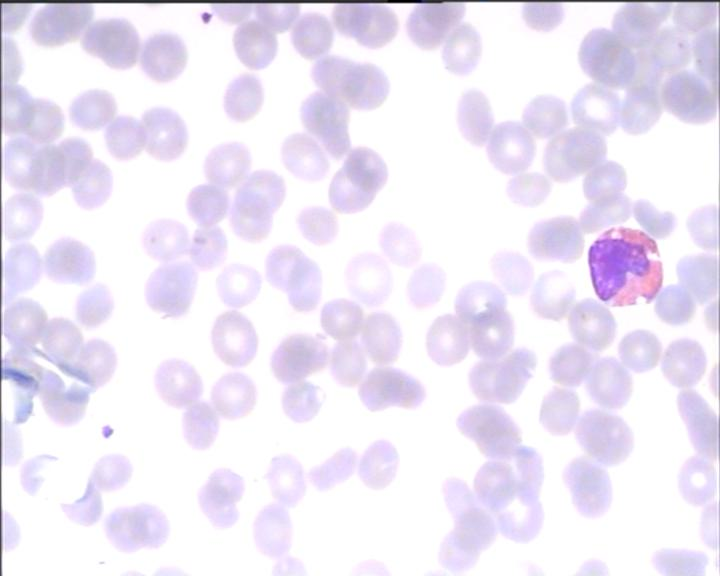eosi: (584, 223, 667, 312)
